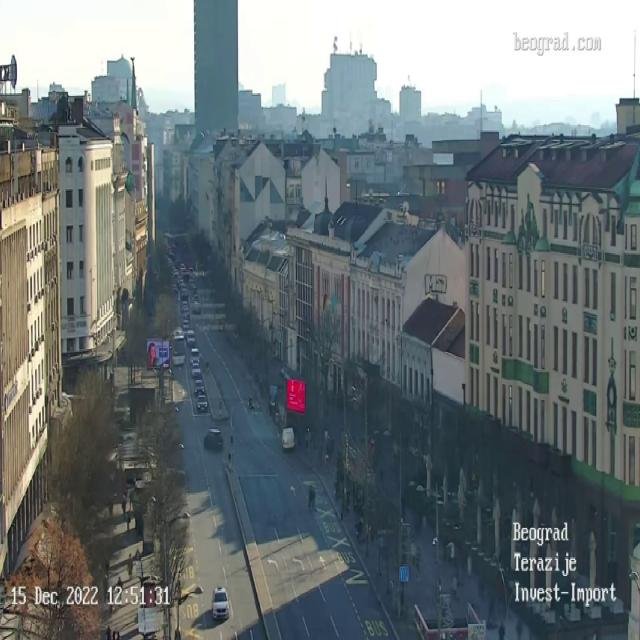bus: (170, 332, 188, 366)
car: (212, 586, 229, 620), (204, 427, 225, 453), (282, 426, 294, 449), (195, 396, 208, 414), (194, 379, 206, 396), (185, 330, 196, 347), (181, 315, 190, 331), (191, 347, 199, 363), (192, 366, 200, 379)
